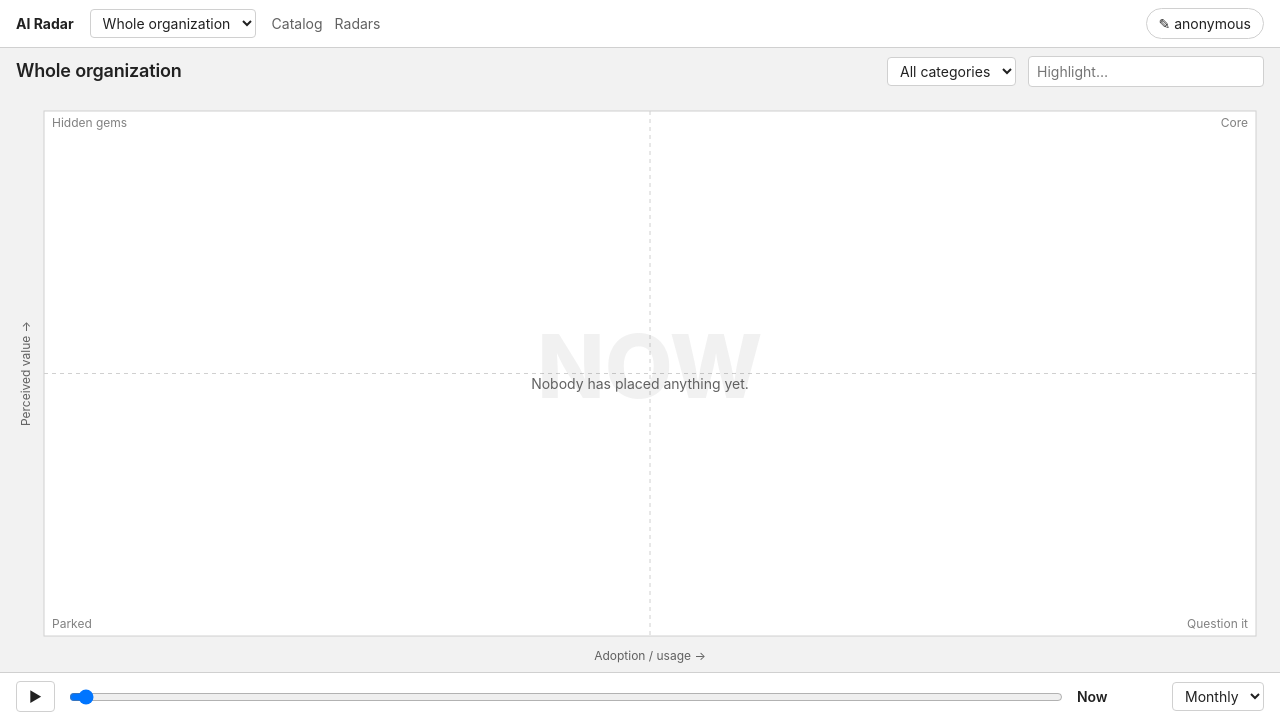
Test: app shell › shows the name chip and lets you change it
Click the button "✎ anonymous". click: (1205, 24)
box: [1146,8,1264,39]
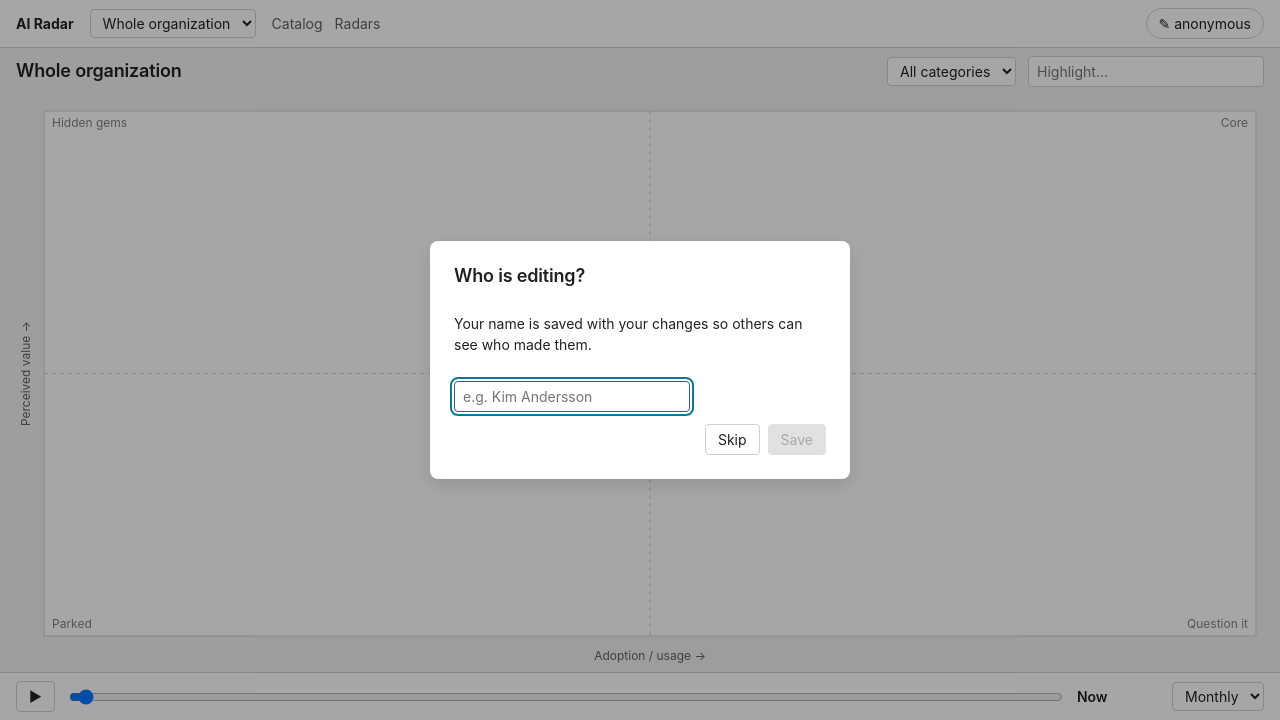
Type "Kim" into the field named "Your name". click: (572, 397)
box: [454,381,690,412]
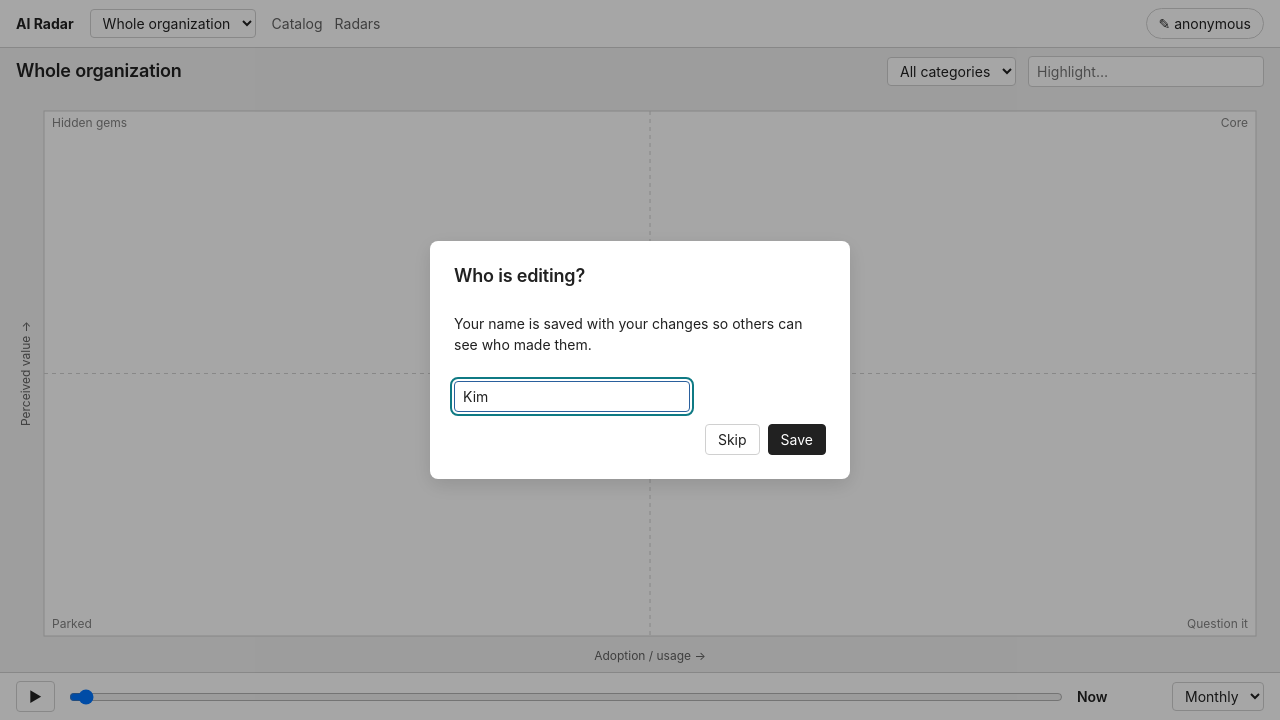
Click the button "Save". click: (797, 440)
box: [768,424,826,455]
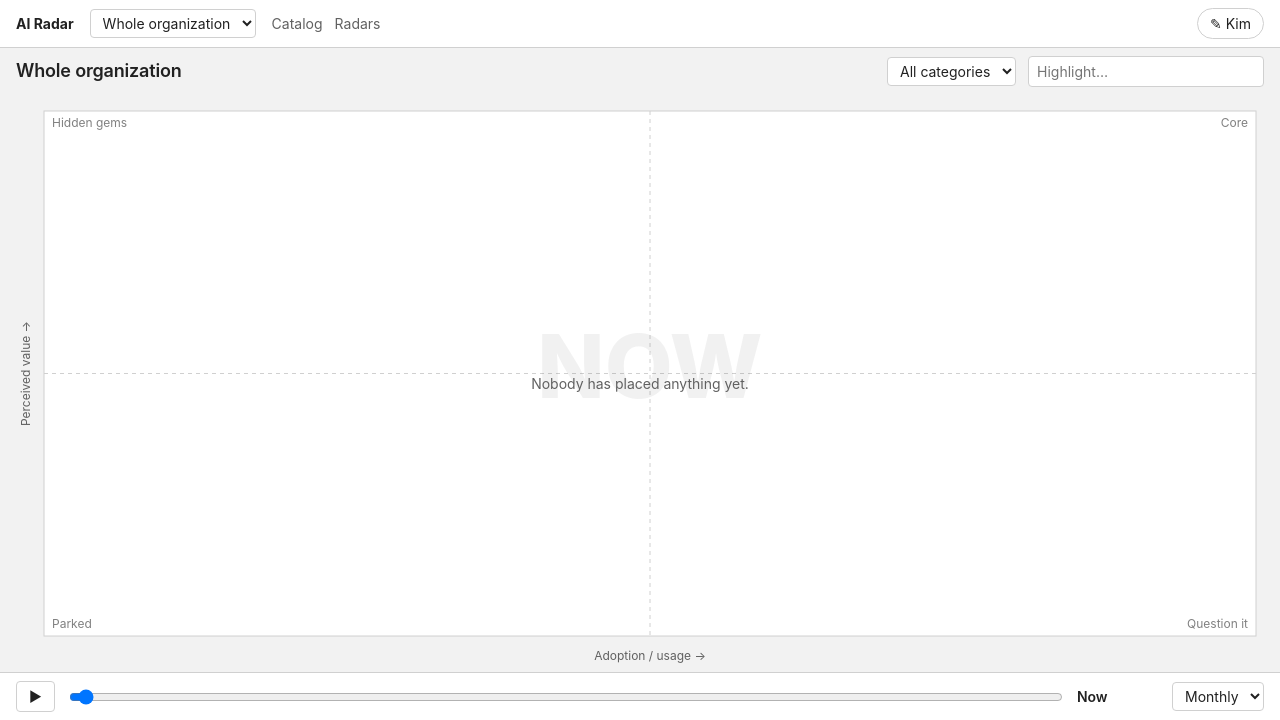
Check: the button "✎ Kim" is shown, box [1197,8,1264,39]
